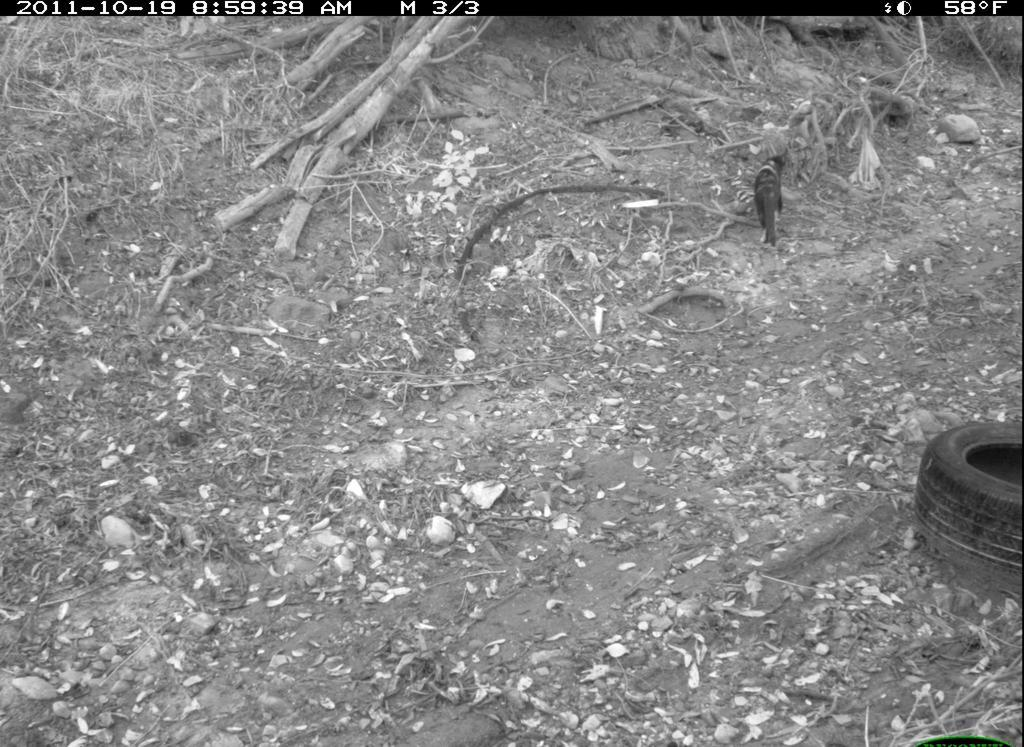cat: (748, 150, 795, 254)
